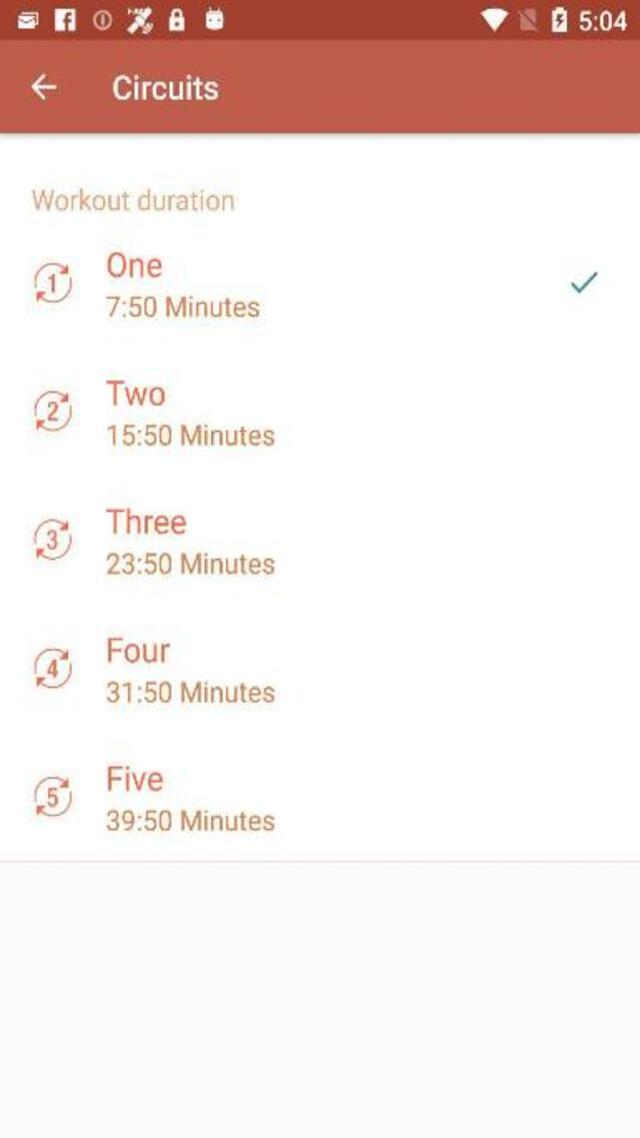Icon: (29, 74, 56, 100), (570, 271, 598, 294)
Image: (34, 518, 72, 560), (34, 776, 72, 817), (34, 648, 72, 689), (34, 390, 72, 431), (34, 262, 72, 303)
Text: (32, 187, 235, 210), (107, 680, 275, 703), (106, 294, 260, 318), (105, 553, 274, 574), (107, 809, 275, 830), (108, 424, 274, 445), (114, 74, 218, 100), (106, 508, 186, 534), (106, 380, 166, 406), (108, 637, 170, 662), (107, 252, 162, 278), (109, 767, 164, 791)
